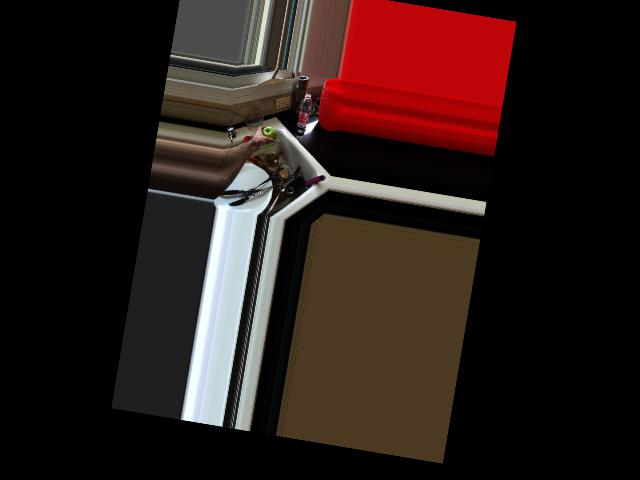apple: (260, 123, 277, 143)
